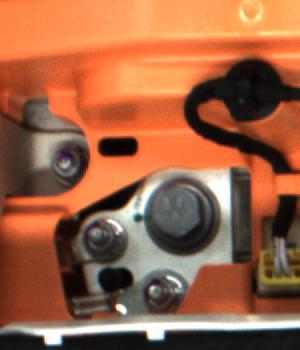screw_s: (134, 275, 180, 313), (48, 151, 85, 182), (86, 222, 118, 257)
